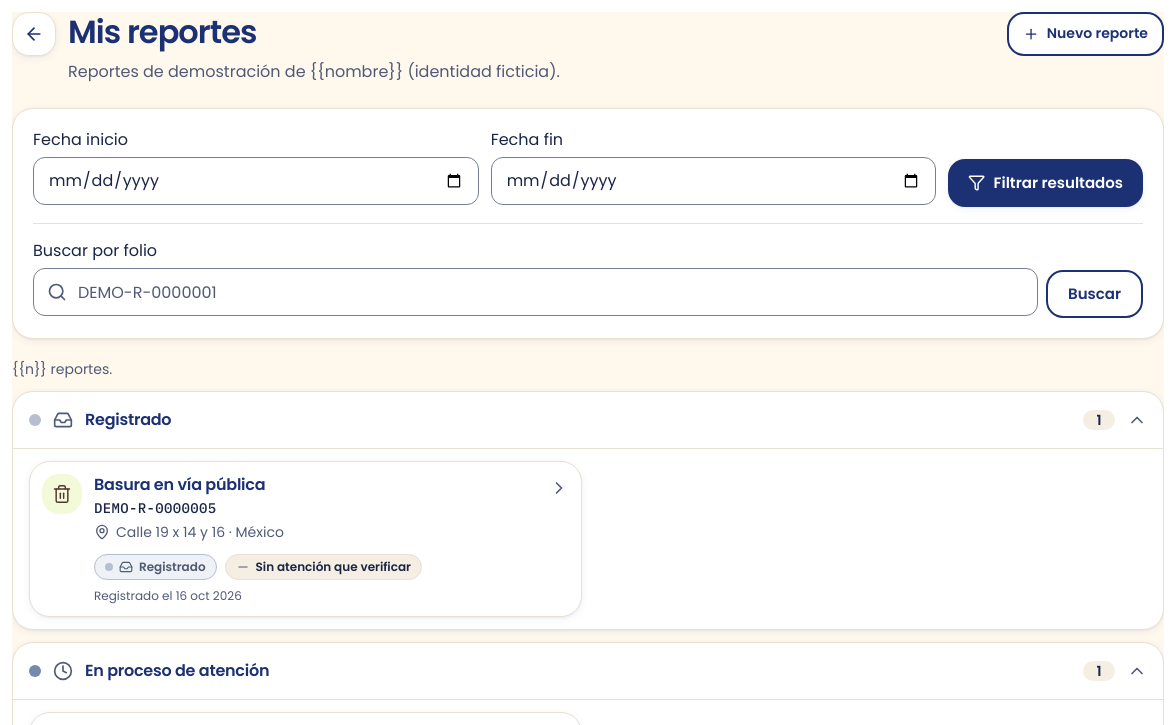
Mis reportes › valida que la fecha fin no sea anterior a la de inicio
Type "2026-10-10" into the date field labelled "Fecha inicio" at (256, 181), box [33,157,479,205]
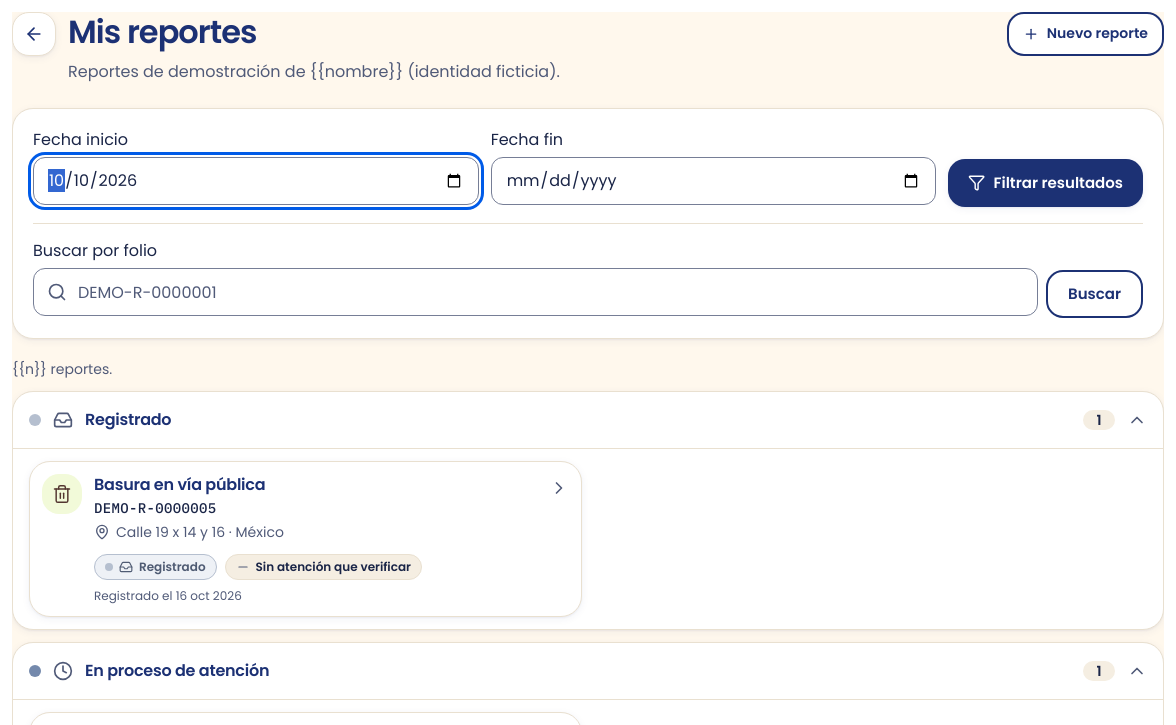
Type "2026-10-01" into the date field labelled "Fecha fin" at (713, 181), box [491,157,936,205]
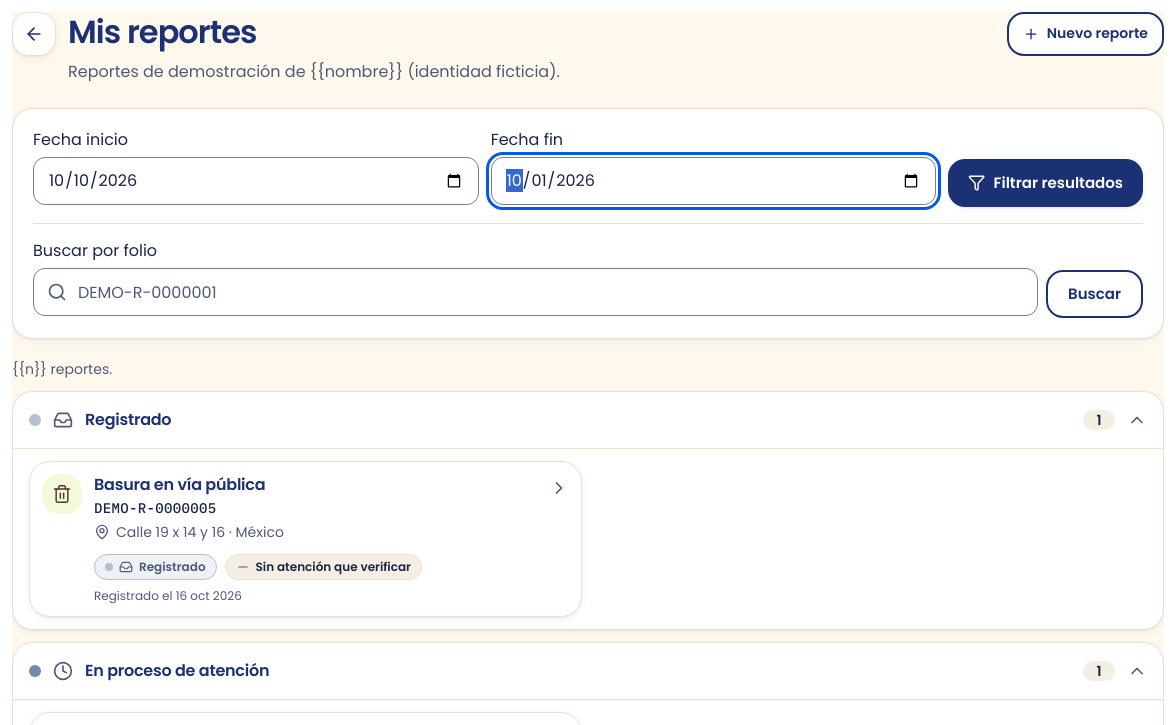
Click the button "Filtrar resultados" at (1046, 183), box [948,159,1143,207]
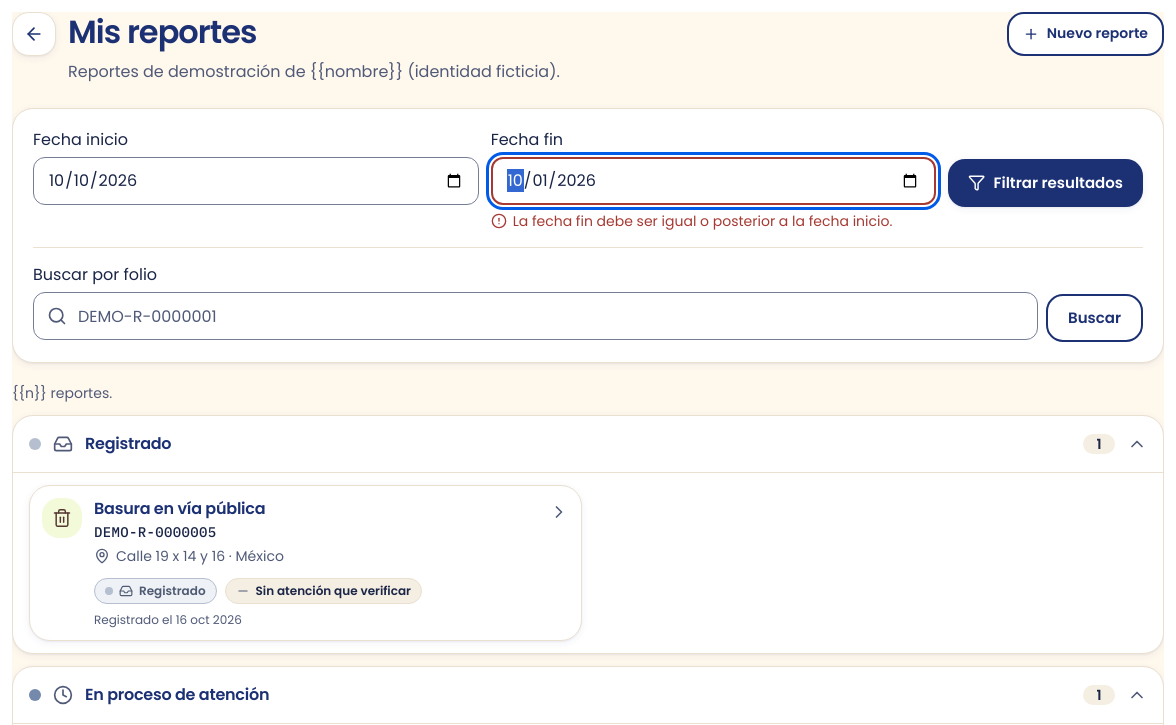
expect the text "La fecha fin debe ser igual o posterior a la fecha inicio." is shown: met, box [491,211,936,231]
